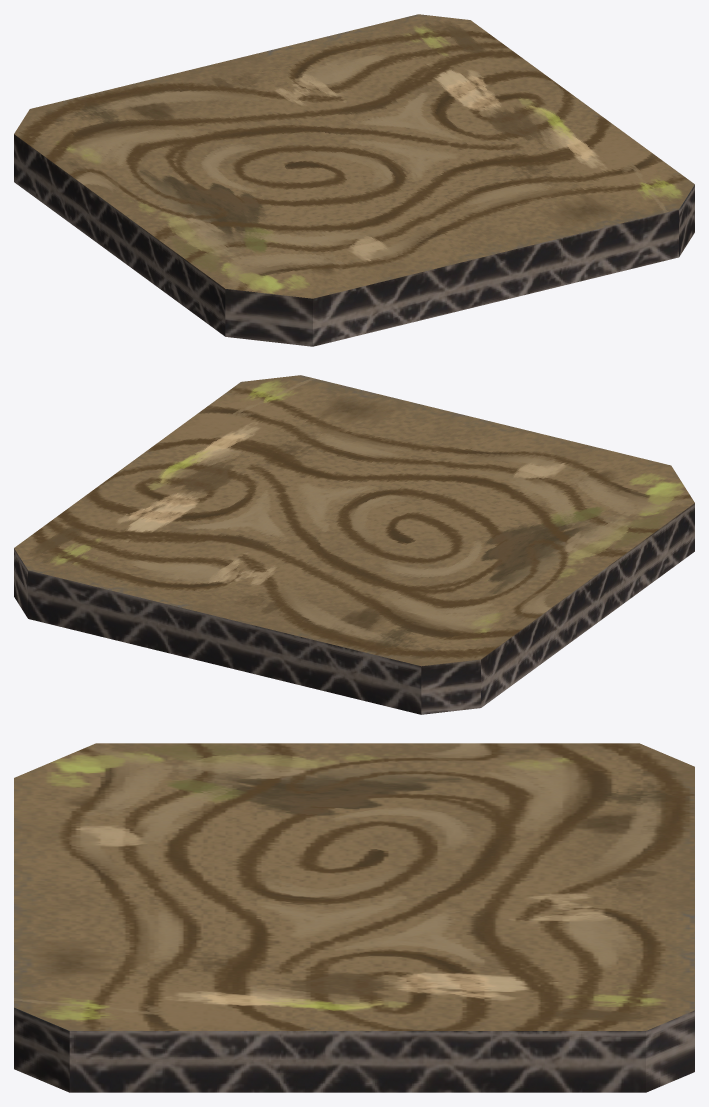
Rendered from brückentile_wrong.fbx.
3 renders of one model, top to bottom at view 1: azimuth 30°, elevation 25°; view 2: azimuth 150°, elevation 25°; view 3: azimuth 270°, elevation 25°, orthographic. The views are drawn at different scales.
Visible parts, largest first — view 1: Plane_Ver5; view 2: Plane_Ver5; view 3: Plane_Ver5.
Part boxes in pixels (<box>): Plane_Ver5: <box>14,14,694,346</box>; Plane_Ver5: <box>14,375,694,714</box>; Plane_Ver5: <box>14,743,694,1092</box>.
Size of the model in its own units: 200 by 20 by 200.
